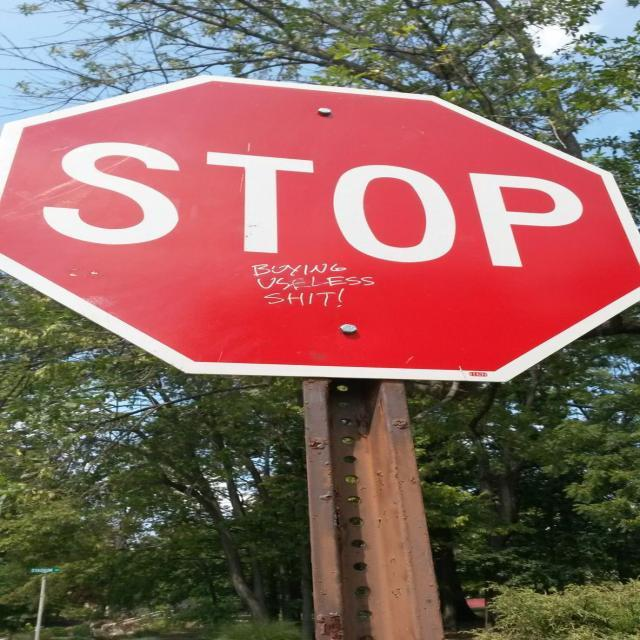stop: (0, 73, 639, 383)
